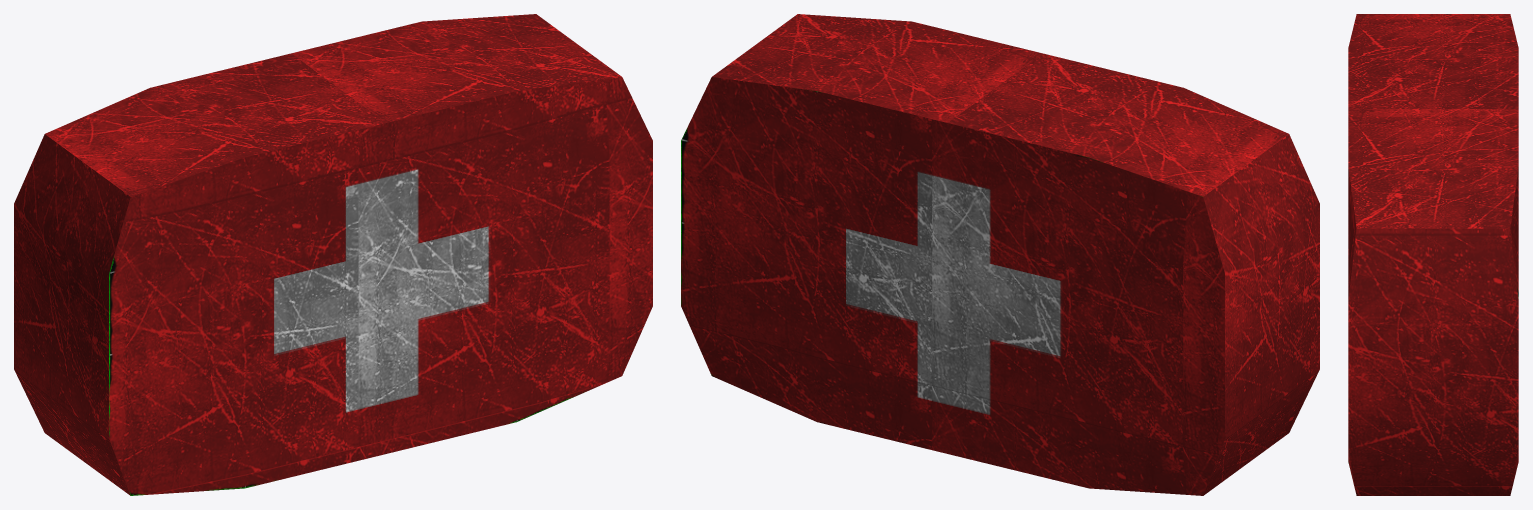
File: health_pickup.FBX
The picture shows the model from 3 angles, left to right: view 1: azimuth 30°, elevation 25°; view 2: azimuth 150°, elevation 25°; view 3: azimuth 270°, elevation 25°; orthographic projection. The views are drawn at different scales.
Parts seen in each view (by area): view 1: Box001; view 2: Box001; view 3: Box001.
Boxes of the visible parts, x1,y1,x2,y2 form: Box001: (14, 14, 652, 495); Box001: (681, 14, 1319, 495); Box001: (1348, 14, 1518, 495).
Size of the model in its own units: 45.84 by 26.65 by 13.89.
1 material, 1 textured.
